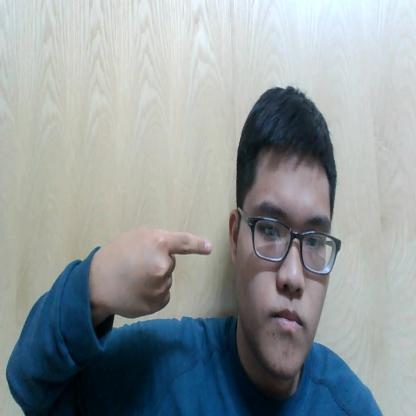left: (103, 205, 213, 329)
